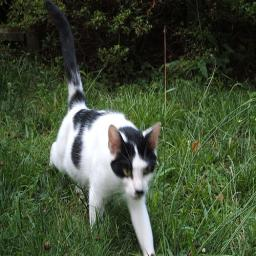catnose: (134, 189, 144, 200)
